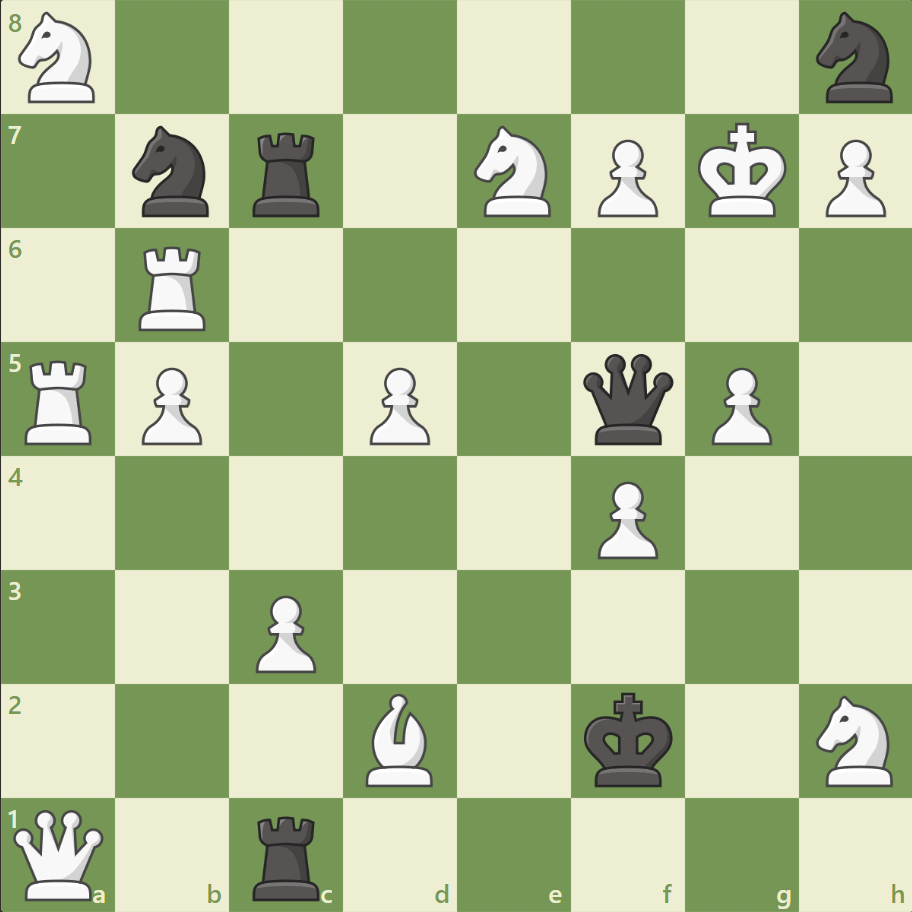B: (358, 687, 442, 790)
K: (692, 117, 792, 225)
N: (11, 7, 108, 110), (806, 688, 903, 791), (465, 121, 562, 223)
P: (133, 359, 208, 450), (701, 359, 776, 450), (247, 586, 322, 677), (588, 132, 662, 223), (815, 132, 889, 223), (361, 359, 435, 450), (588, 473, 662, 564)
Q: (10, 804, 109, 903)
R: (19, 352, 102, 449), (133, 239, 215, 336)
k: (579, 685, 679, 793)
n: (124, 121, 222, 223), (806, 7, 903, 110)
q: (578, 349, 677, 449)
r: (246, 806, 329, 904), (246, 125, 329, 222)
